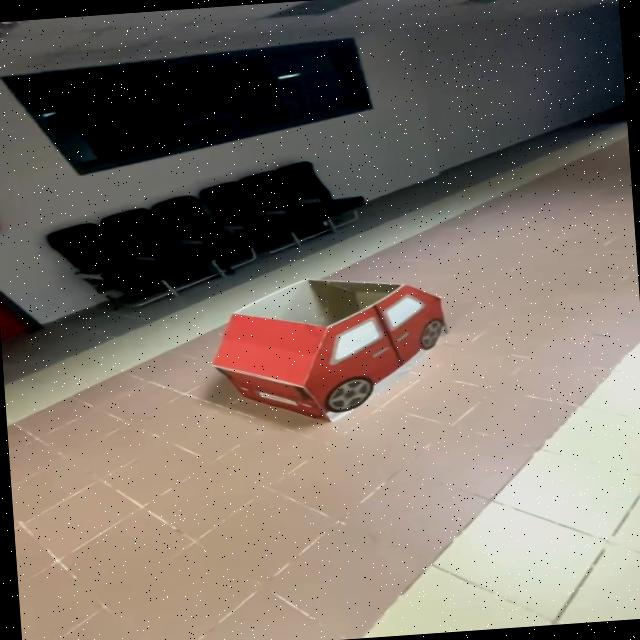red_car: (169, 255, 496, 445)
